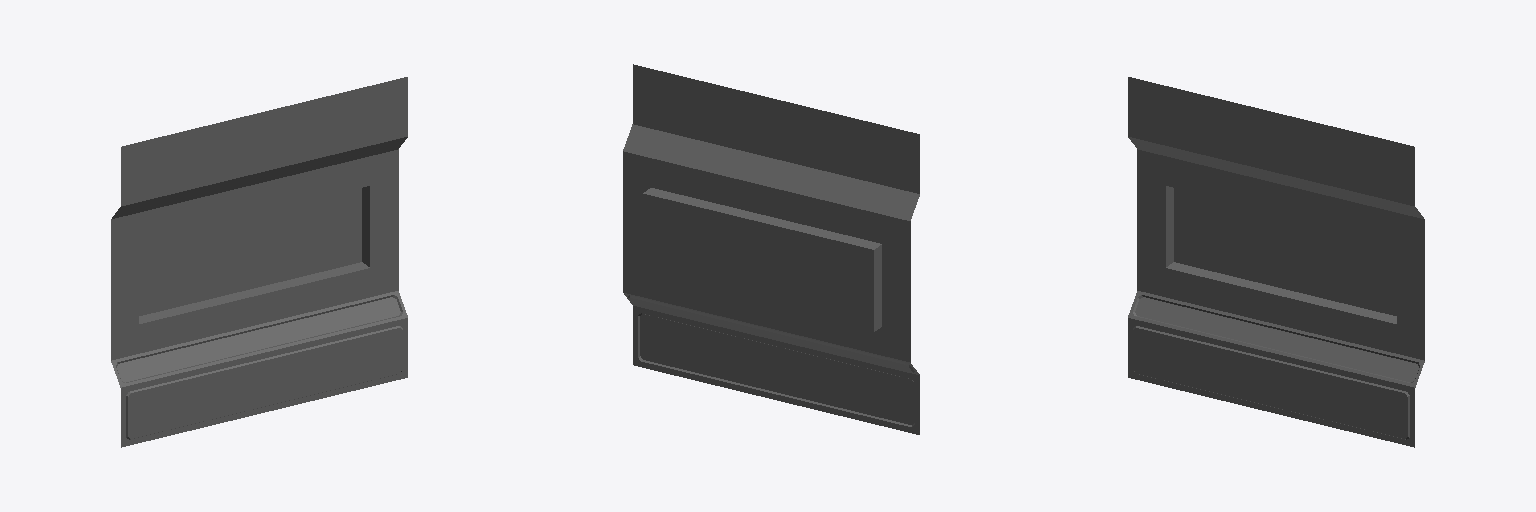
The model's file is Wall01_LP.obj.
3 renders of one model, left to right at view 1: azimuth 30°, elevation 25°; view 2: azimuth 150°, elevation 25°; view 3: azimuth 330°, elevation 25°, orthographic.
Visible parts, largest first — view 1: Plane001; view 2: Plane001; view 3: Plane001.
Boxes of the visible parts, box(x1,y1,x2,y2) form: Plane001: box(111, 77, 407, 447); Plane001: box(623, 64, 919, 434); Plane001: box(1128, 77, 1424, 447).
Bounding box in the file's own units: 512 × 512 × 58.